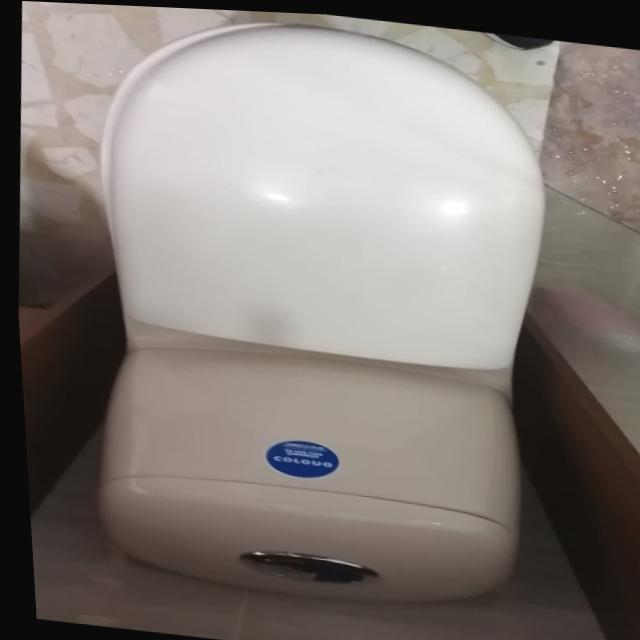toilet: (59, 2, 573, 620)
